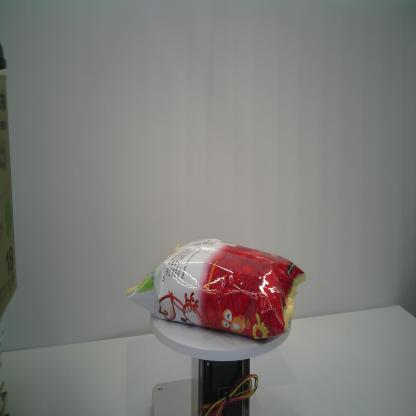Puffed Food: (124, 238, 305, 341)
